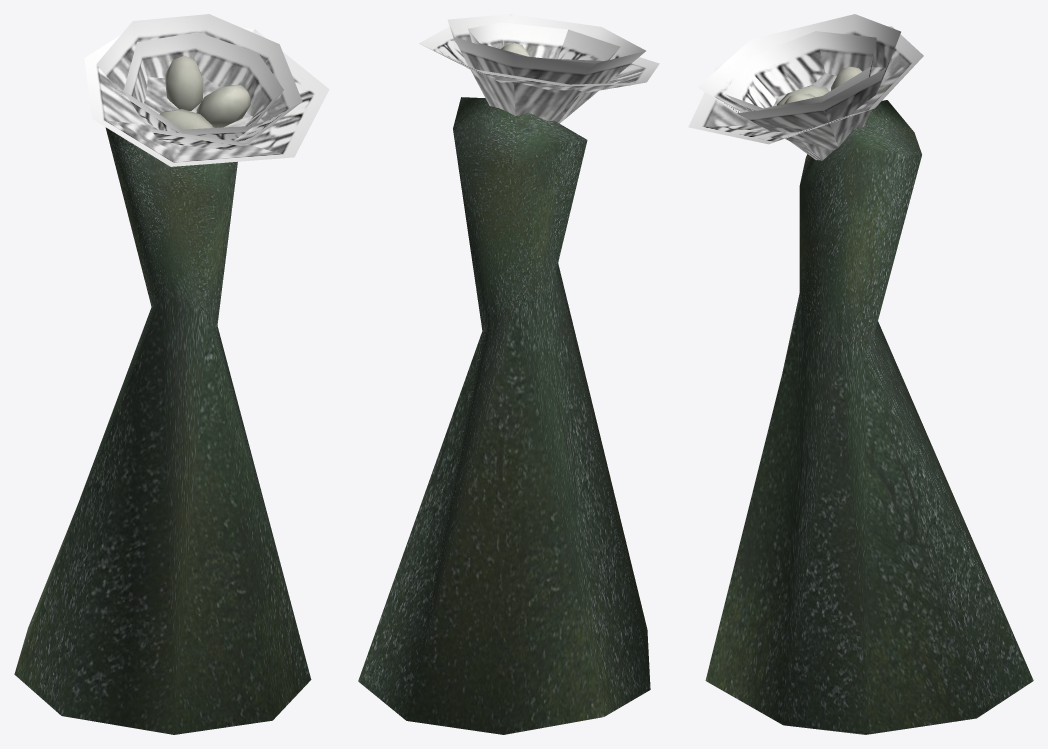
The model's file is aerie.gltf.
3 renders of one model, left to right at view 1: azimuth 30°, elevation 25°; view 2: azimuth 150°, elevation 25°; view 3: azimuth 270°, elevation 25°, orthographic.
Parts seen in each view (by area): view 1: aerie; view 2: aerie; view 3: aerie.
Part boxes in pixels (box(x1,y1,x2,y2)): aerie: box(14, 14, 329, 734); aerie: box(358, 14, 659, 734); aerie: box(688, 14, 1033, 734).
Bounding box in the file's own units: 34.21 × 90.04 × 40.6.
3 materials, 3 textured.
